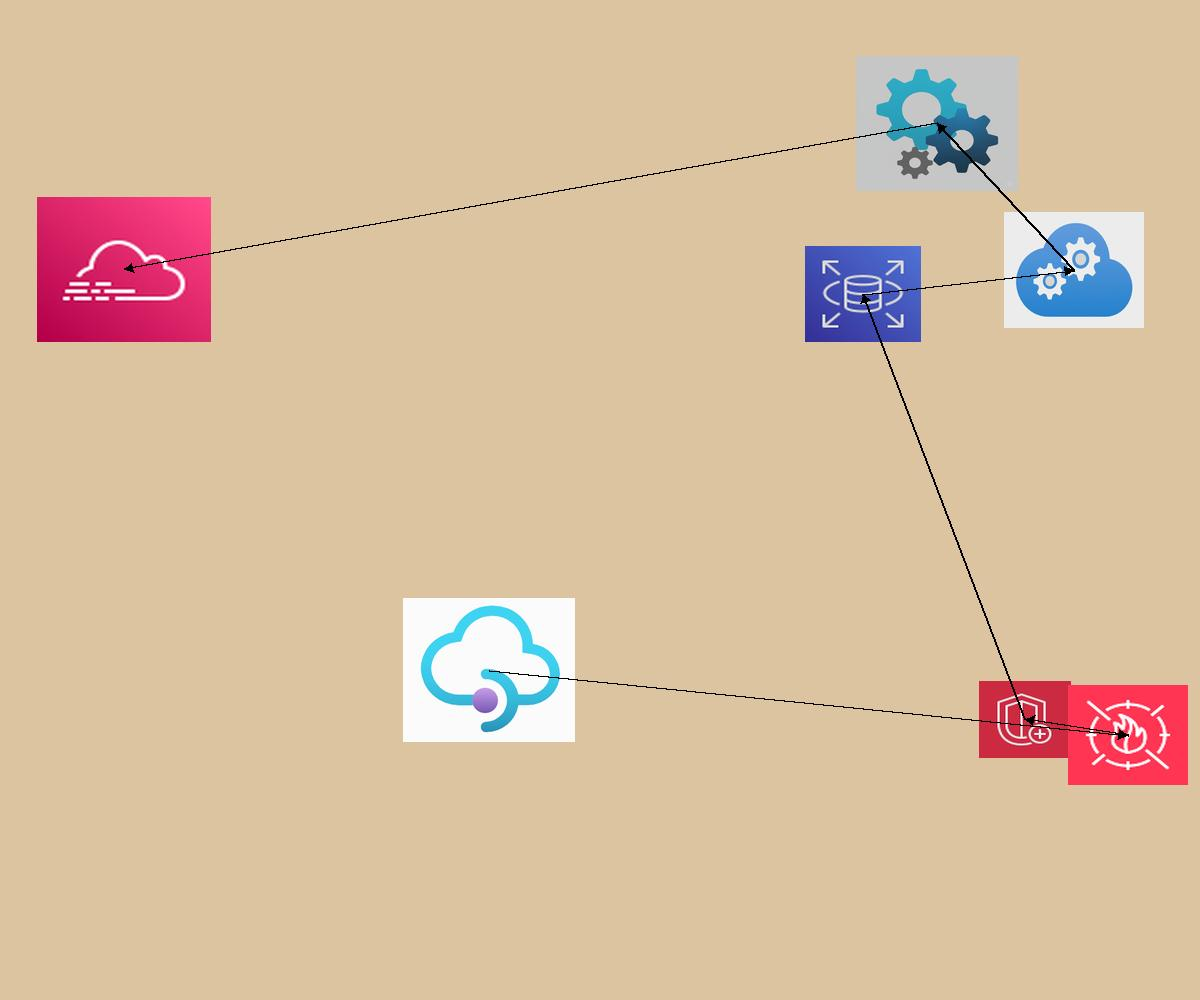AWS-CloudTrail: (37, 197, 211, 342)
AWS-RDS: (805, 246, 921, 342)
AWS-Shield: (979, 681, 1071, 758)
AWS-WAF: (1068, 685, 1188, 785)
Azure_api: (856, 56, 1018, 191)
Azure_api_gateway: (403, 598, 575, 742)
Azure_cloud_services: (1004, 212, 1144, 328)
